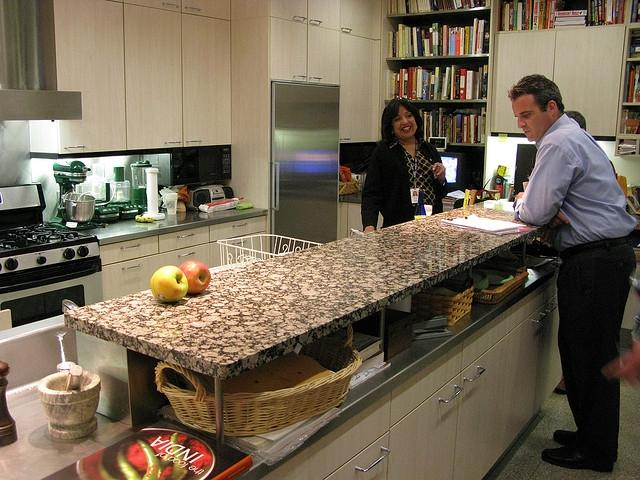apple: (150, 265, 188, 303), (179, 260, 211, 294)
